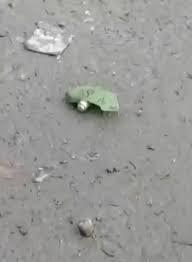PMF 1: (63, 80, 121, 115)
